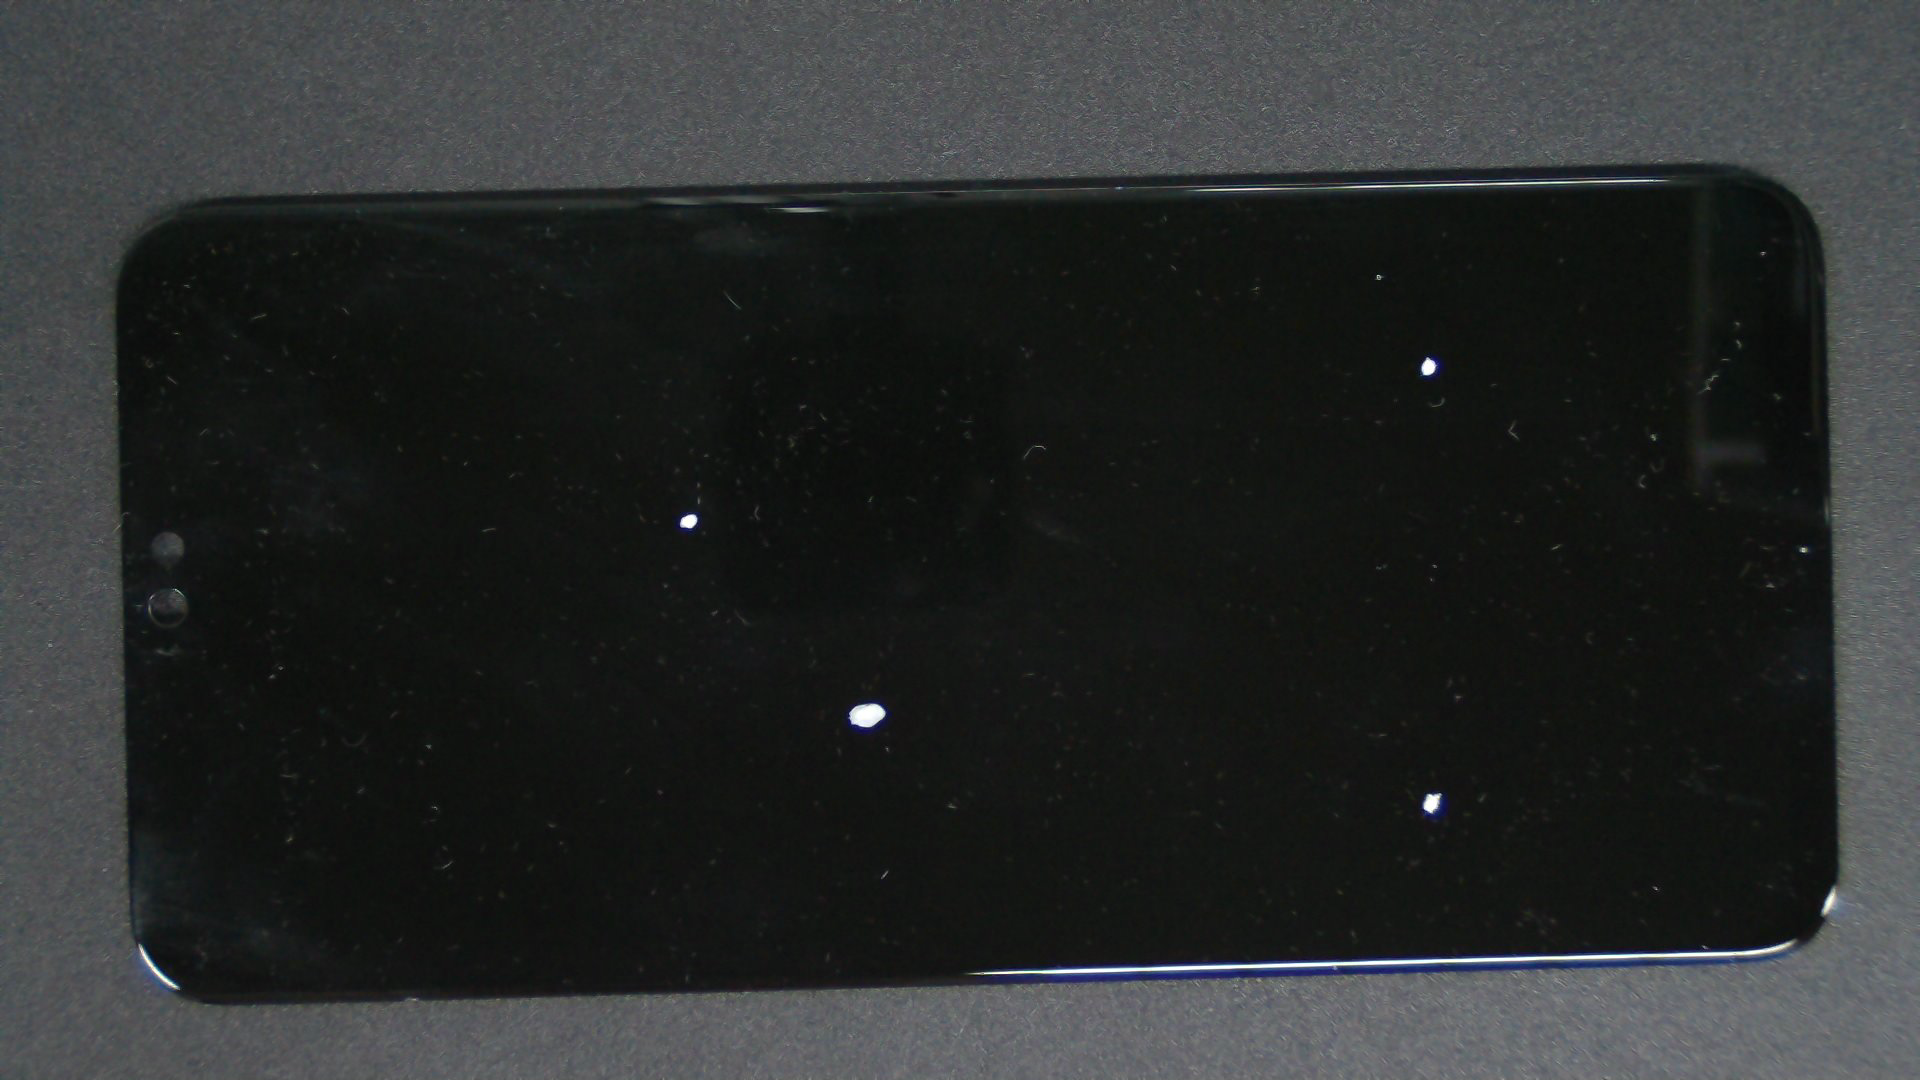defect: (847, 702, 887, 728), (1421, 792, 1443, 815), (1420, 356, 1437, 377), (679, 512, 698, 529)
